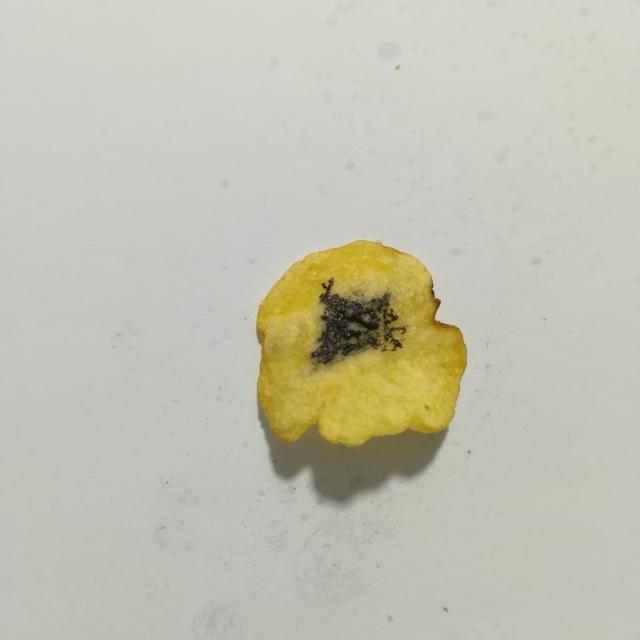chip: (257, 241, 466, 445)
damaged: (311, 278, 405, 365)
